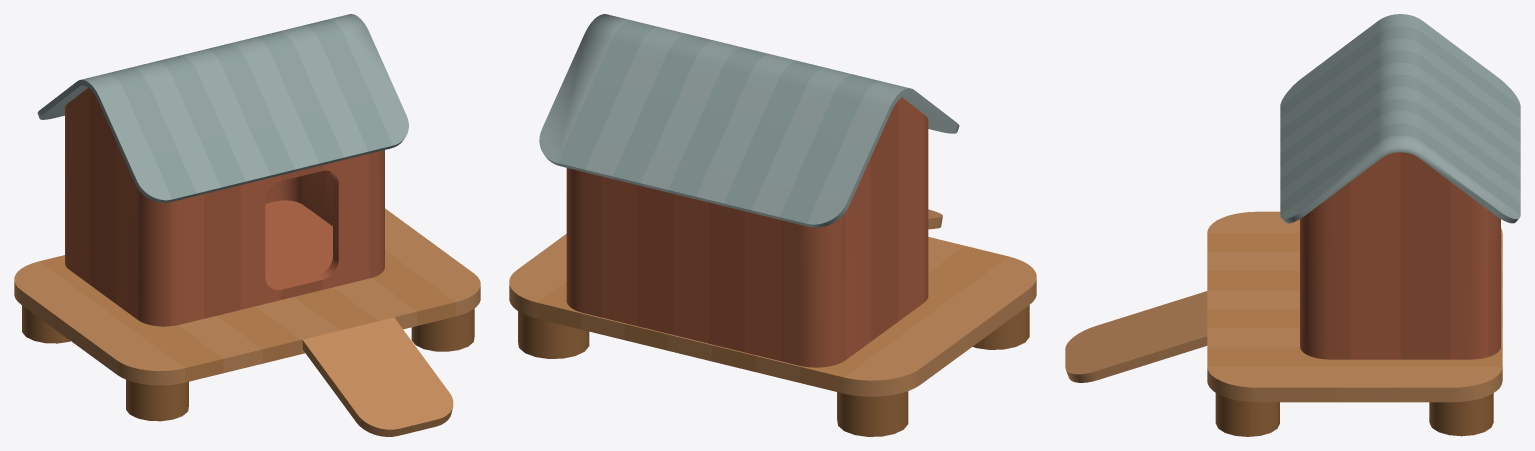
The model's file is Chicken coop.fbx.
3 renders of one model, left to right at view 1: azimuth 30°, elevation 25°; view 2: azimuth 150°, elevation 25°; view 3: azimuth 270°, elevation 25°, orthographic. The views are drawn at different scales.
Parts seen in each view (by area): view 1: Chicken coop; view 2: Chicken coop; view 3: Chicken coop.
Part boxes in pixels (box(x1,y1,x2,y2)): Chicken coop: box(14, 14, 480, 436); Chicken coop: box(509, 14, 1036, 436); Chicken coop: box(1065, 14, 1520, 436).
Bounding box in the file's own units: 3.37 × 2.43 × 3.69.
